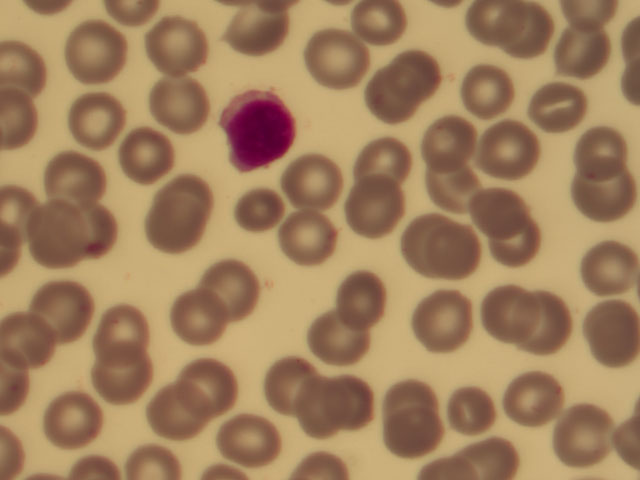RBC: (63, 15, 133, 85), (140, 7, 210, 77), (141, 67, 211, 137), (115, 111, 185, 181), (67, 83, 137, 153), (49, 135, 119, 205), (19, 196, 89, 266), (62, 195, 132, 265), (139, 192, 209, 262), (156, 148, 226, 218), (221, 177, 291, 247), (263, 203, 333, 273), (280, 143, 350, 213), (335, 182, 405, 252), (345, 124, 415, 194), (357, 64, 427, 134), (394, 44, 464, 114), (304, 29, 374, 99), (345, 1, 415, 71), (542, 14, 612, 84), (523, 73, 593, 143), (449, 61, 519, 131), (470, 102, 540, 172), (420, 104, 490, 174), (423, 150, 493, 220), (467, 172, 537, 242), (477, 206, 547, 276), (429, 218, 499, 288), (392, 208, 462, 278), (567, 160, 637, 230), (561, 120, 631, 190), (570, 227, 640, 297), (570, 290, 640, 360), (514, 287, 584, 357), (465, 278, 535, 348), (413, 291, 483, 361), (333, 259, 403, 329), (308, 298, 378, 368), (200, 258, 270, 328), (165, 282, 235, 352), (90, 292, 160, 362), (85, 345, 155, 415), (36, 386, 106, 456), (32, 271, 102, 341), (3, 312, 73, 382), (148, 381, 218, 451), (178, 349, 248, 419), (219, 408, 289, 478), (254, 348, 324, 418), (292, 378, 362, 448), (327, 369, 397, 439), (376, 364, 446, 434), (388, 404, 458, 474), (433, 380, 503, 450), (508, 361, 578, 431), (548, 398, 618, 468), (223, 1, 293, 70), (467, 1, 537, 70)
WBC: (215, 82, 307, 173)
